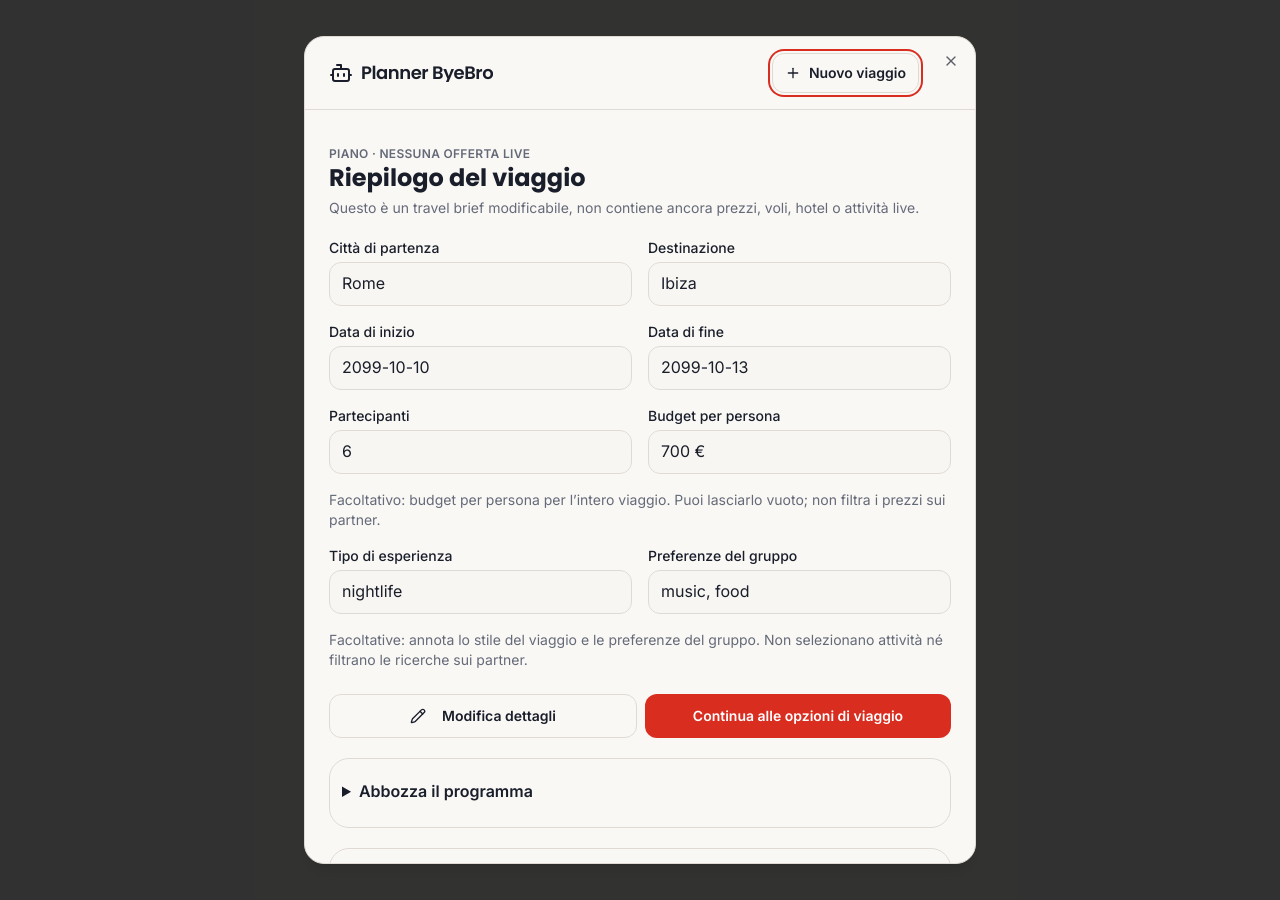
PlannerDialog › starts a visibly fresh trip and clears chat, bridge, and provider selections
Step 1. Click the button "Nuovo viaggio" → click(845, 73), box [772,53,919,93]
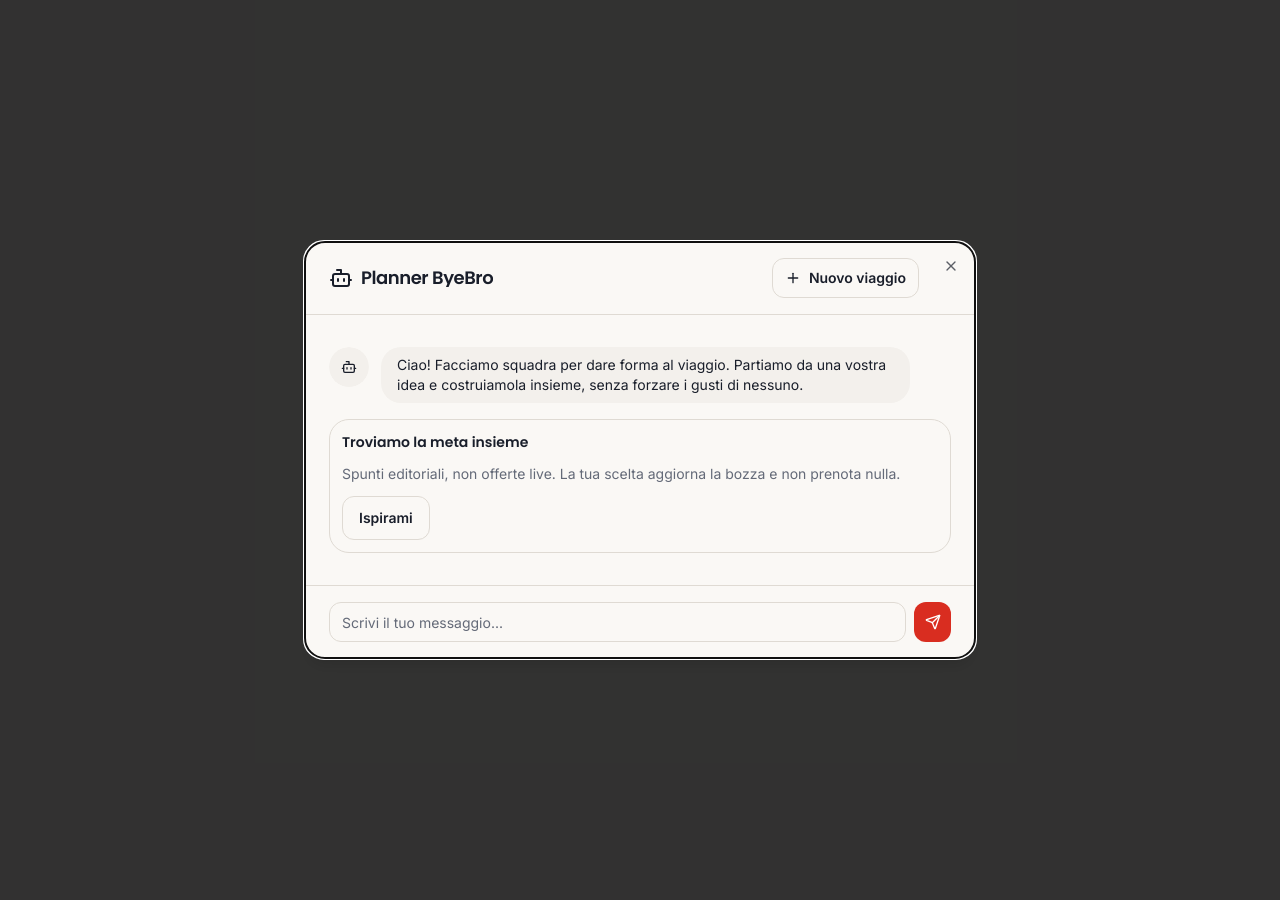
Expected: the form with test id "planner-review" is gone
Expected: the field labelled "Scrivi il tuo messaggio..." is empty, [329,602,906,642]
